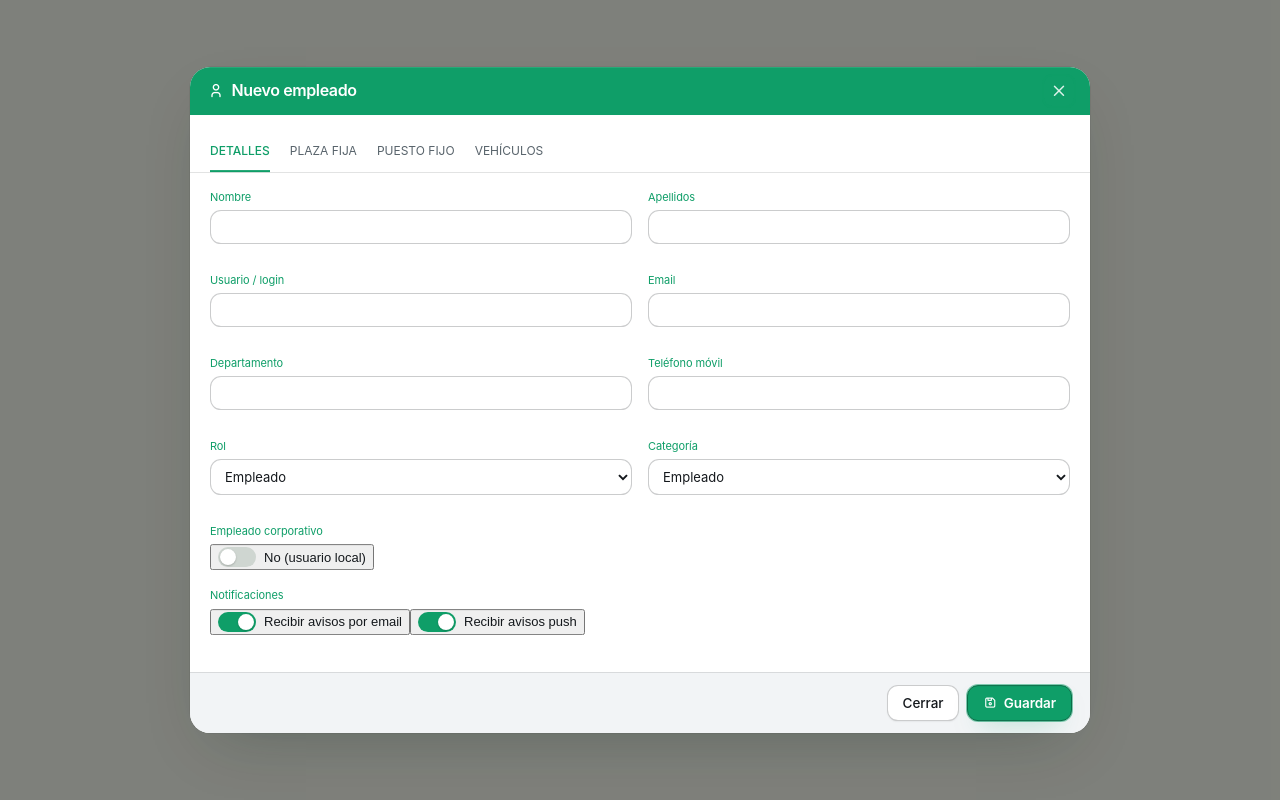
Test case: EmployeeFormModal › should_show_login_error_when_create_returns_409_duplicate_login
Type "Carol" into the field labelled "Nombre" at (421, 227), box [210,210,632,244]
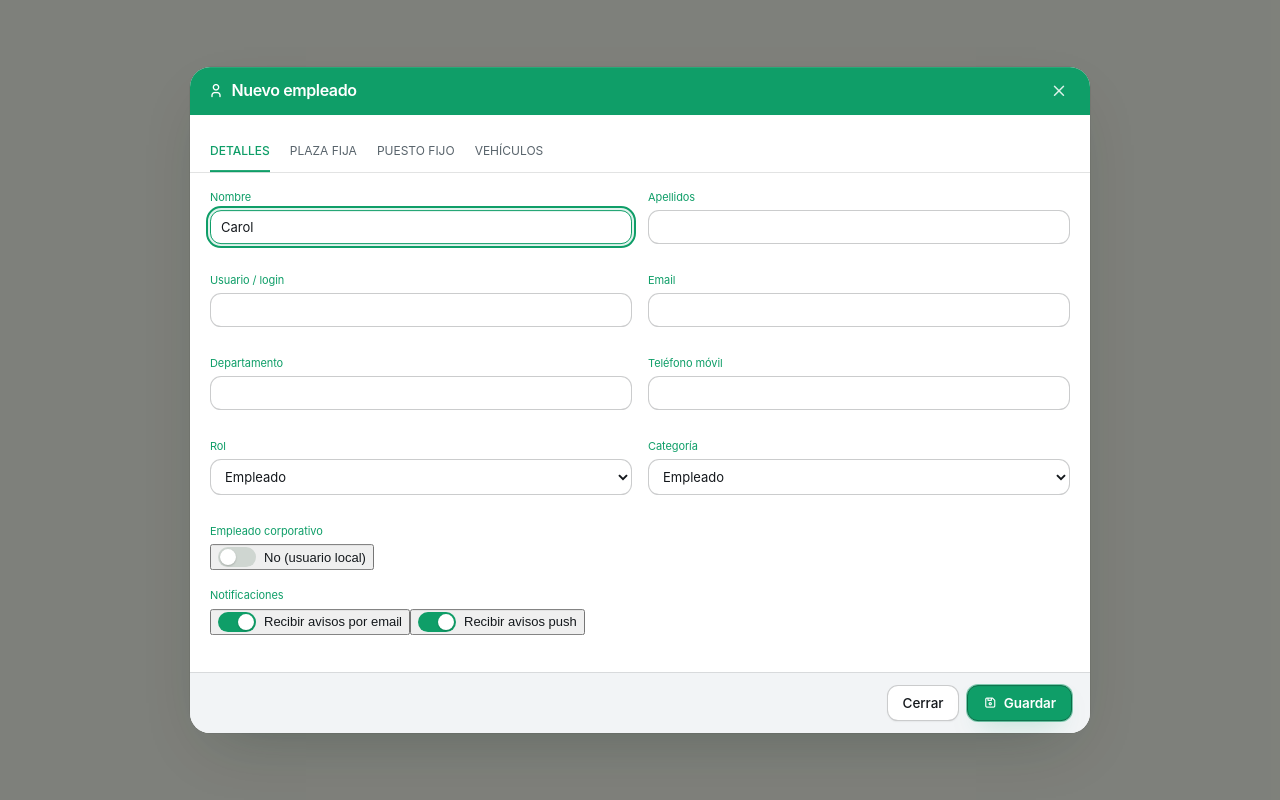
Type "Carter" into the field labelled "Apellidos" at (859, 227), box [648,210,1070,244]
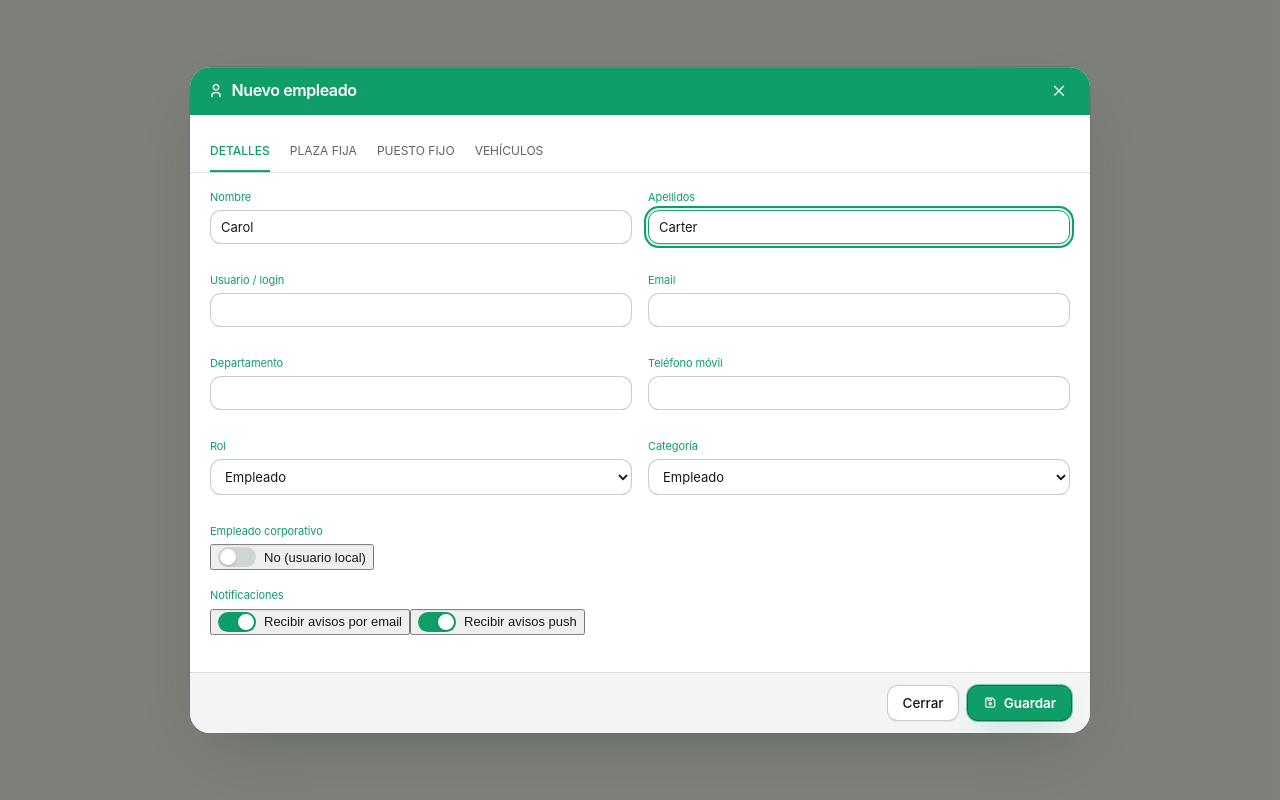
Type "ccarter" into the field labelled "Usuario / login" at (421, 310), box [210,293,632,327]
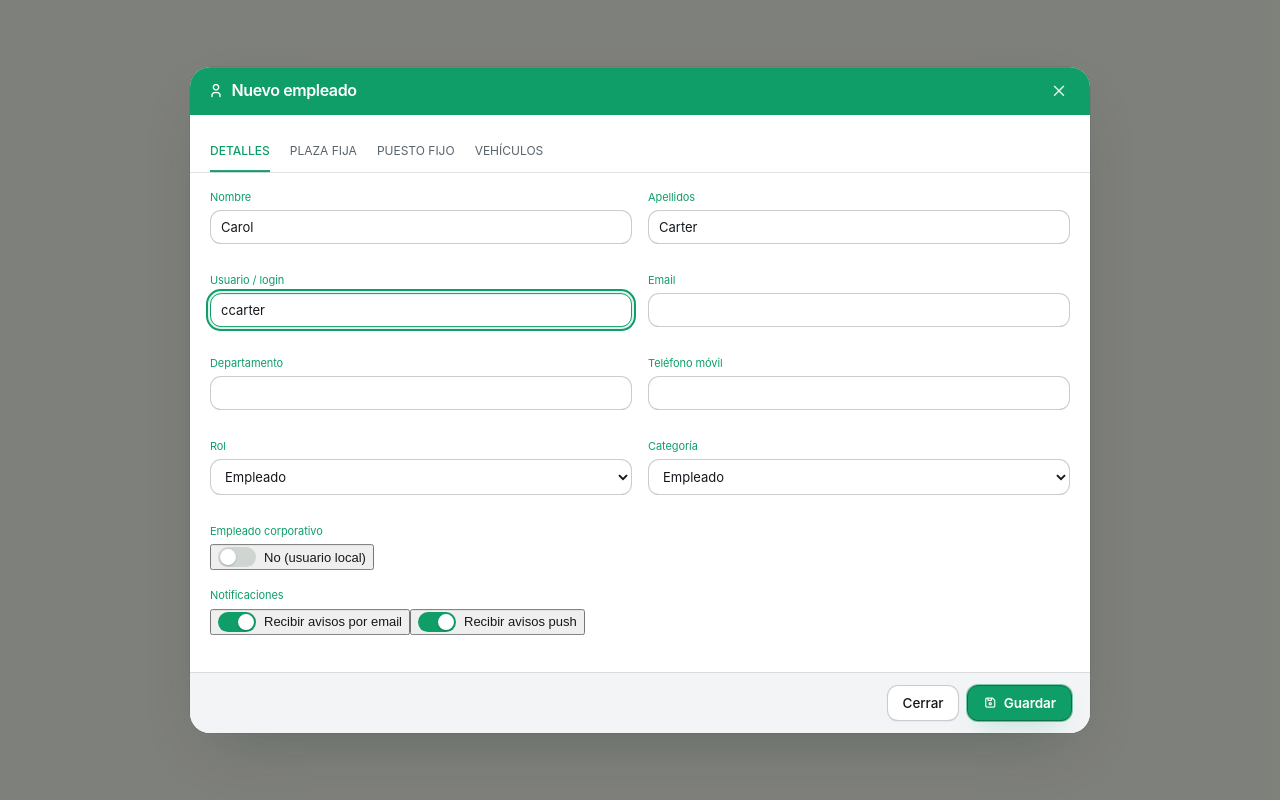
Type "carol@aleatica.com" into the field labelled "Email" at (859, 310), box [648,293,1070,327]
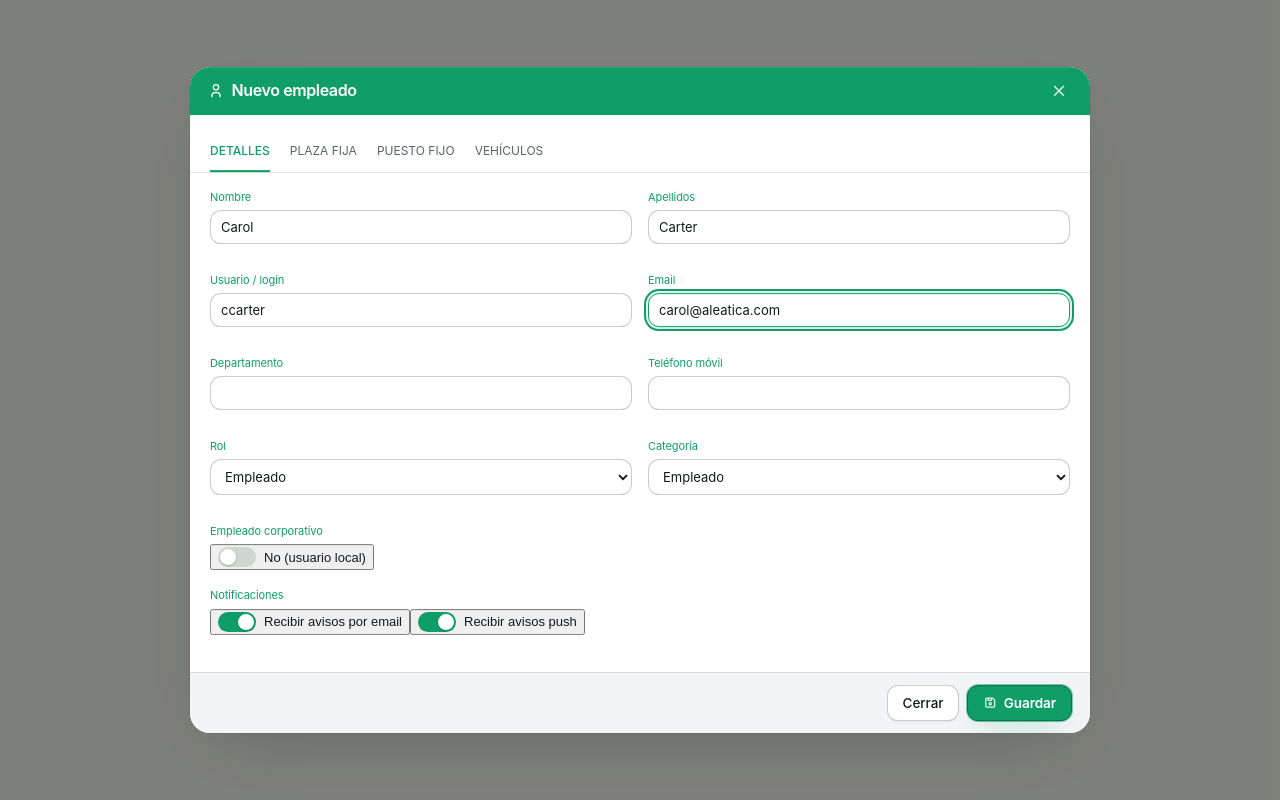
Click the button "Guardar" at (1020, 703), box [967,685,1072,721]
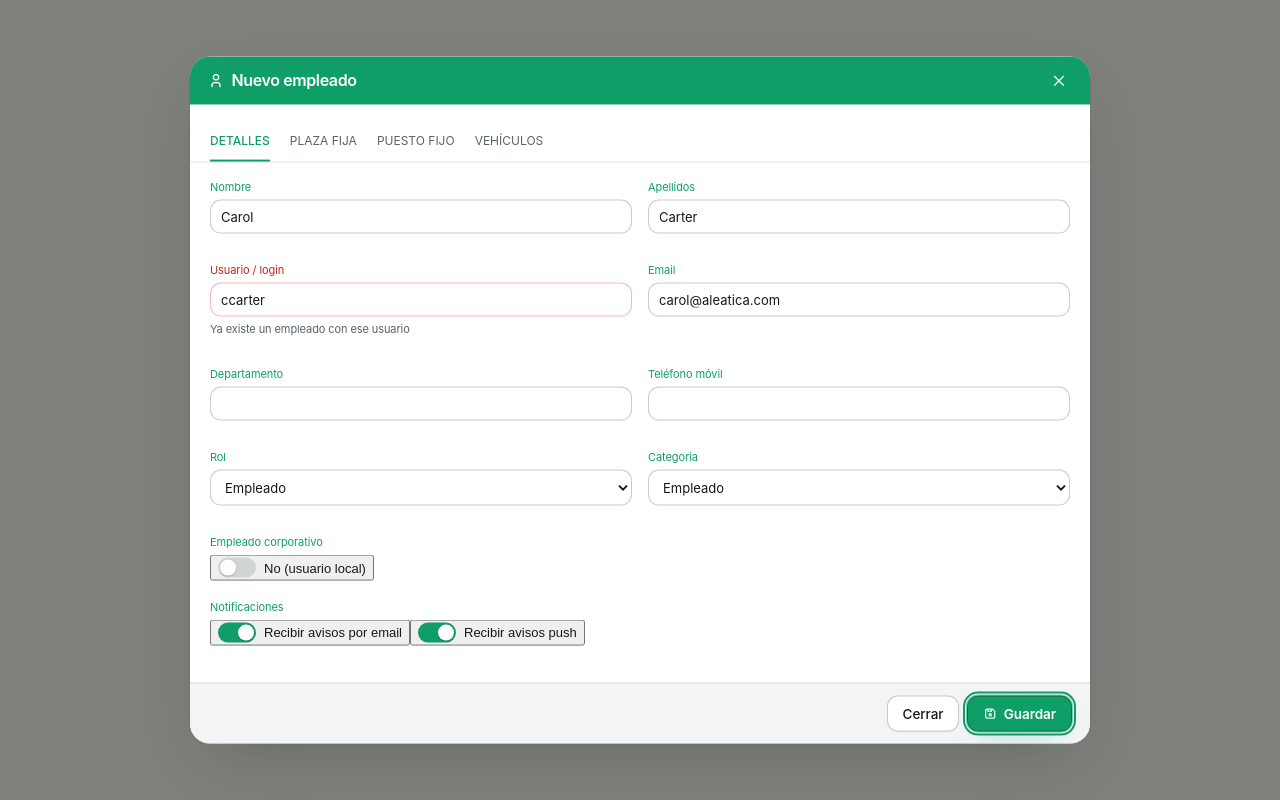
Expected: the text "Ya existe un empleado con ese usuario" is shown, [210,322,410,336]
